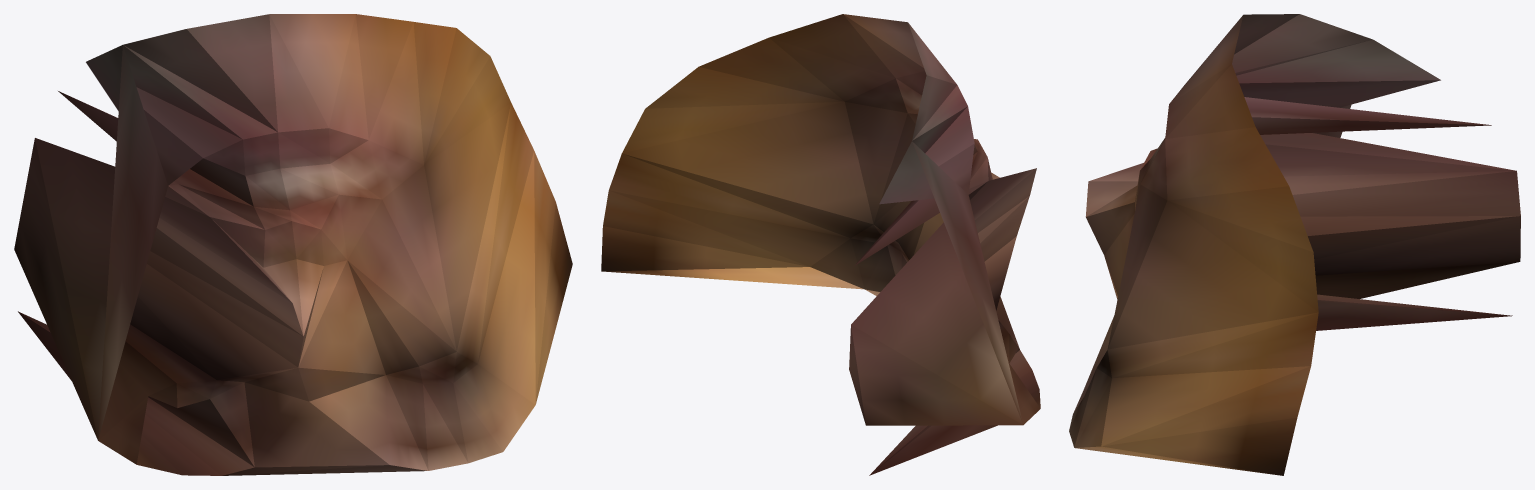
File: real_10767.obj
3 renders of one model, left to right at view 1: azimuth 30°, elevation 25°; view 2: azimuth 150°, elevation 25°; view 3: azimuth 270°, elevation 25°, orthographic. The views are drawn at different scales.
Size of the model in its own units: 101 by 83 by 90.7.
